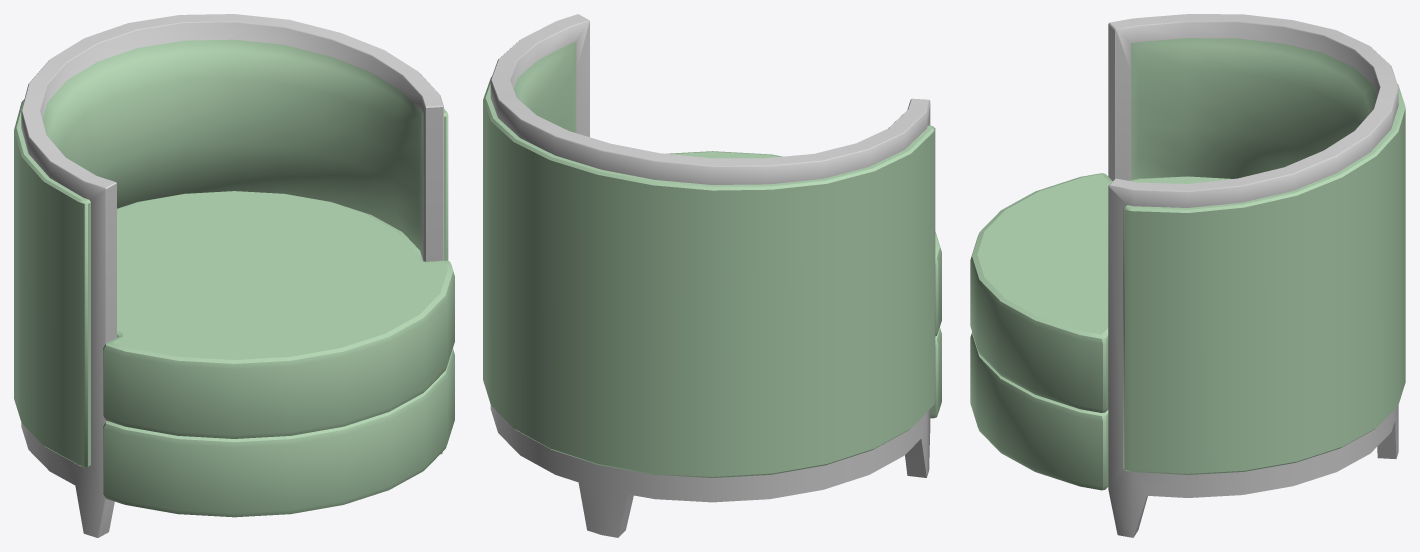
Rendered from MZHSF07.FBX.
3 renders of one model, left to right at view 1: azimuth 30°, elevation 25°; view 2: azimuth 150°, elevation 25°; view 3: azimuth 270°, elevation 25°, orthographic. The views are drawn at different scales.
Parts seen in each view (by area): view 1: MZHSF07; view 2: MZHSF07; view 3: MZHSF07.
Boxes of the visible parts, x1,y1,x2,y2 form: MZHSF07: (14, 14, 454, 537); MZHSF07: (483, 14, 941, 537); MZHSF07: (970, 14, 1405, 537).
Bounding box in the file's own units: 91.97 × 91.99 × 85.
